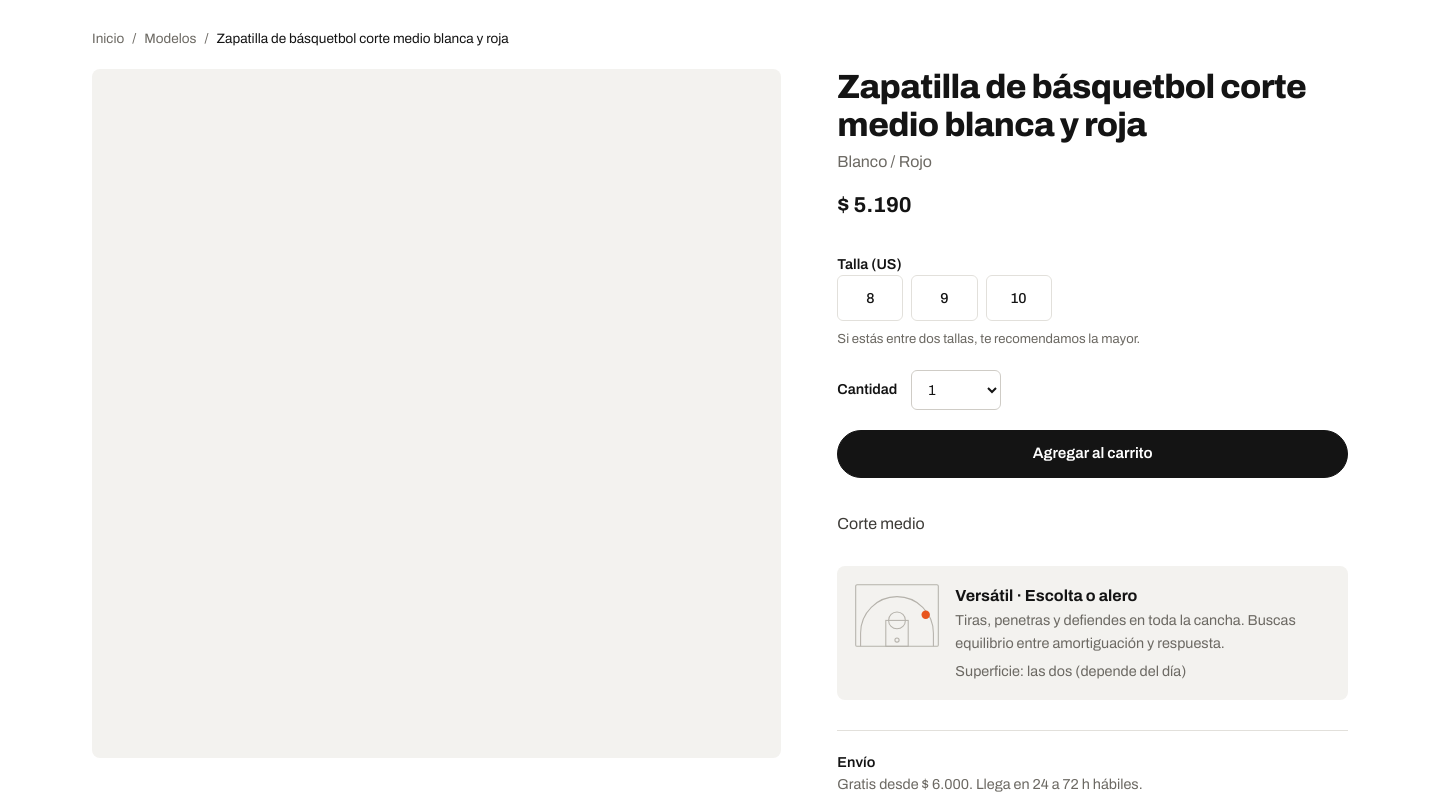
ficha de producto › agrega la talla y cantidad elegidas y actualiza el contador
The image size is (1440, 810).
Step 1. Click the radio button labelled "10" → (1019, 298), box 986,275 -> 1052,321
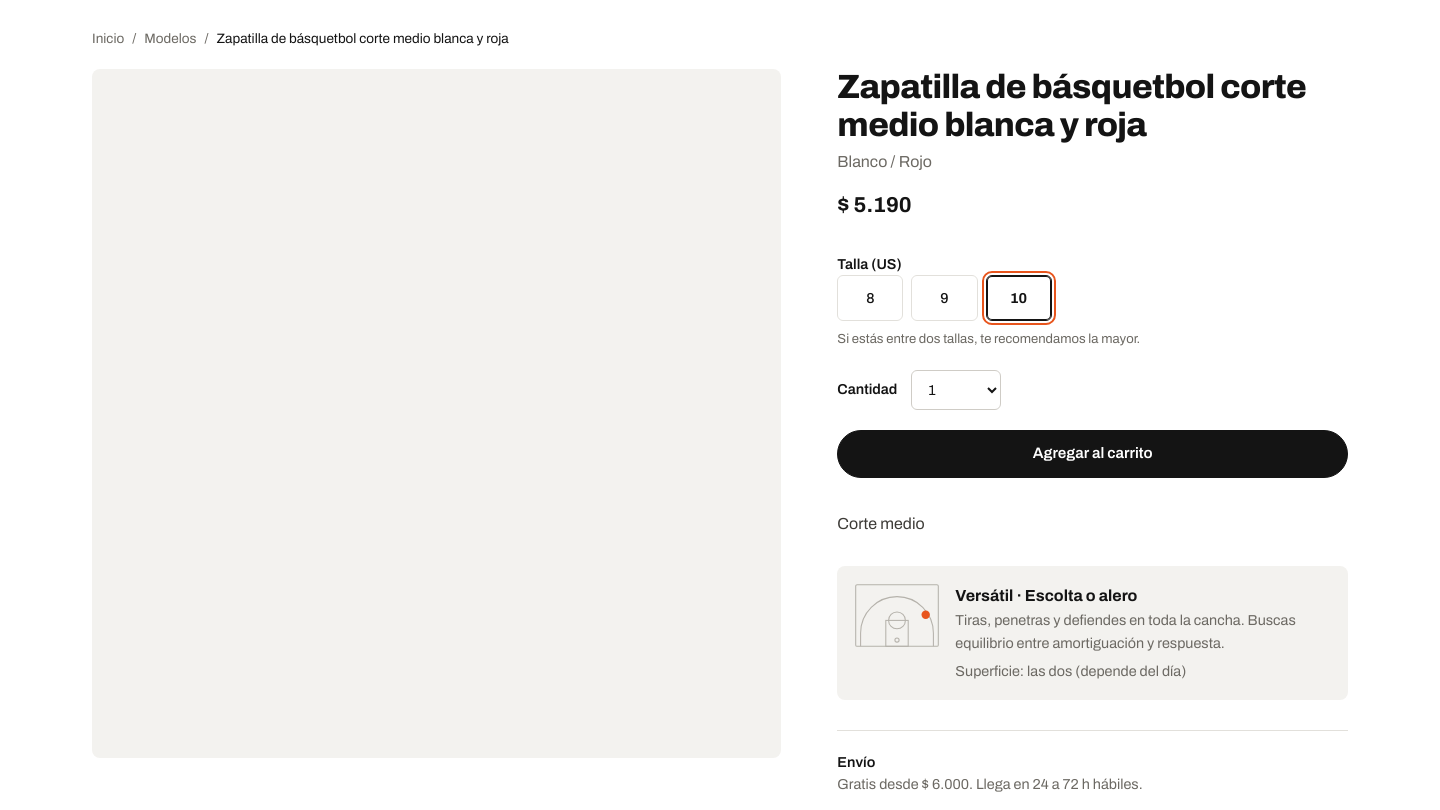
Step 2. Select "2" in the dropdown labelled "Cantidad" → (956, 390), box 911,370 -> 1001,410
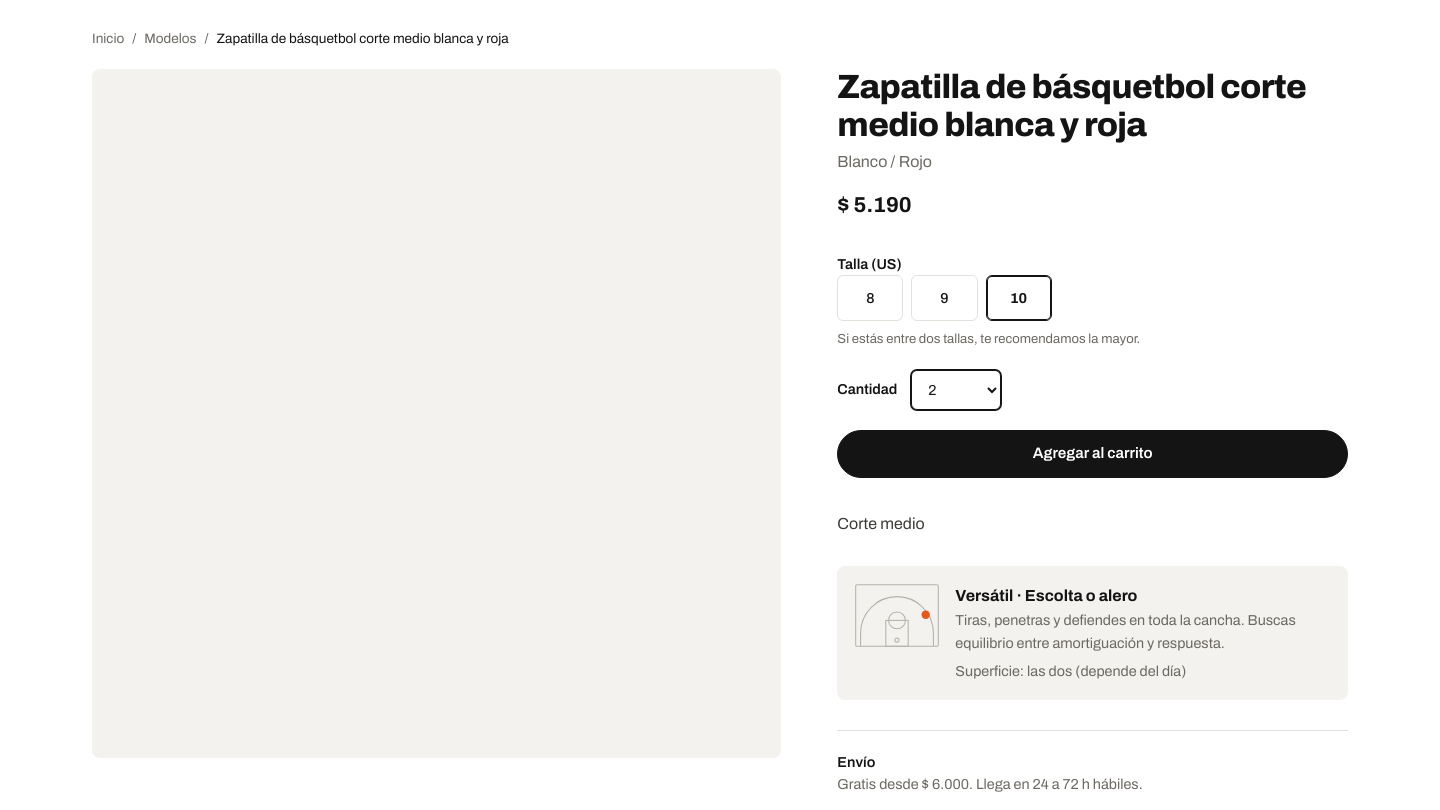
Step 3. Click the button "Agregar al carrito" → (1093, 454), box 837,430 -> 1348,478
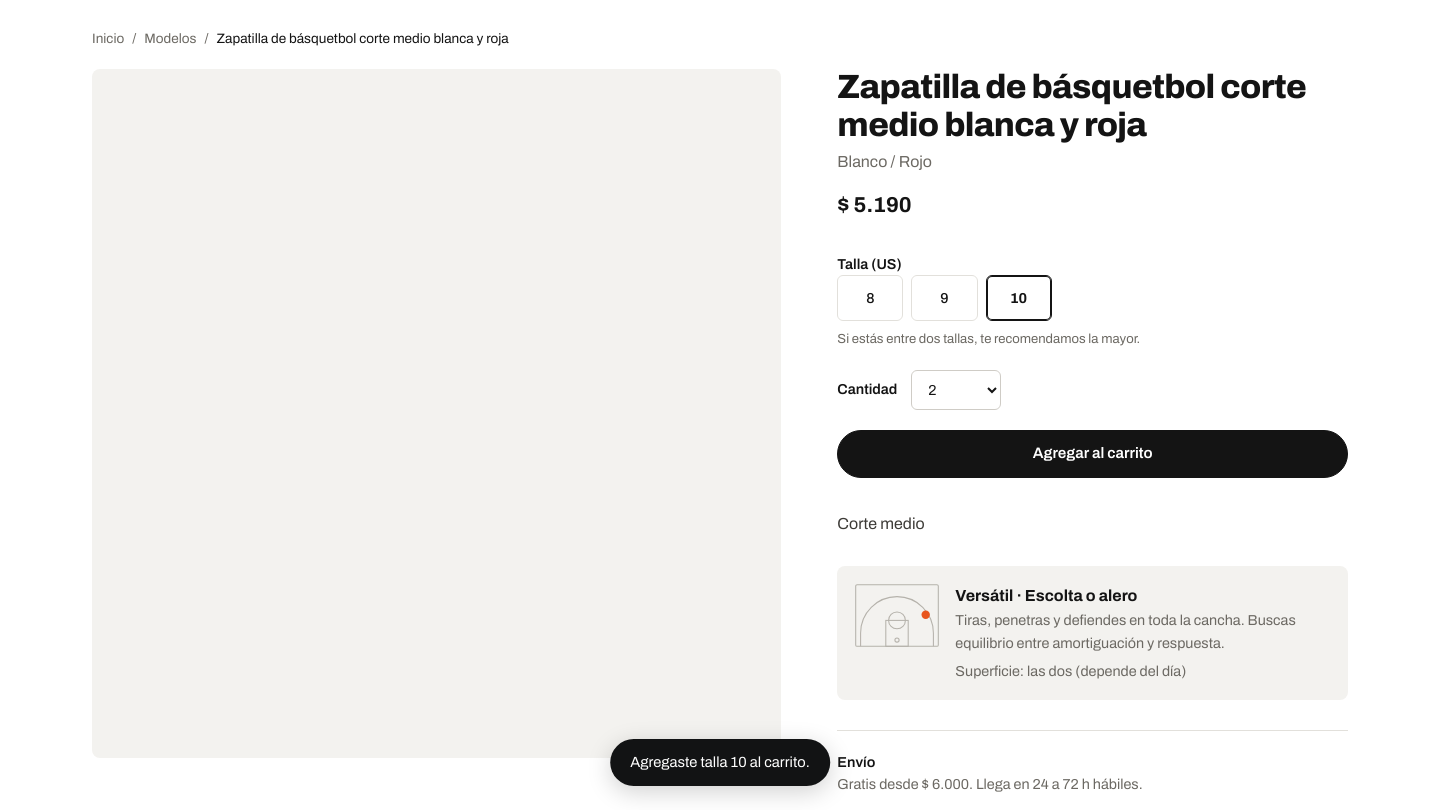
expect the text "Agregaste talla 10 al carrito." is shown: met, box 610,739 -> 830,786
